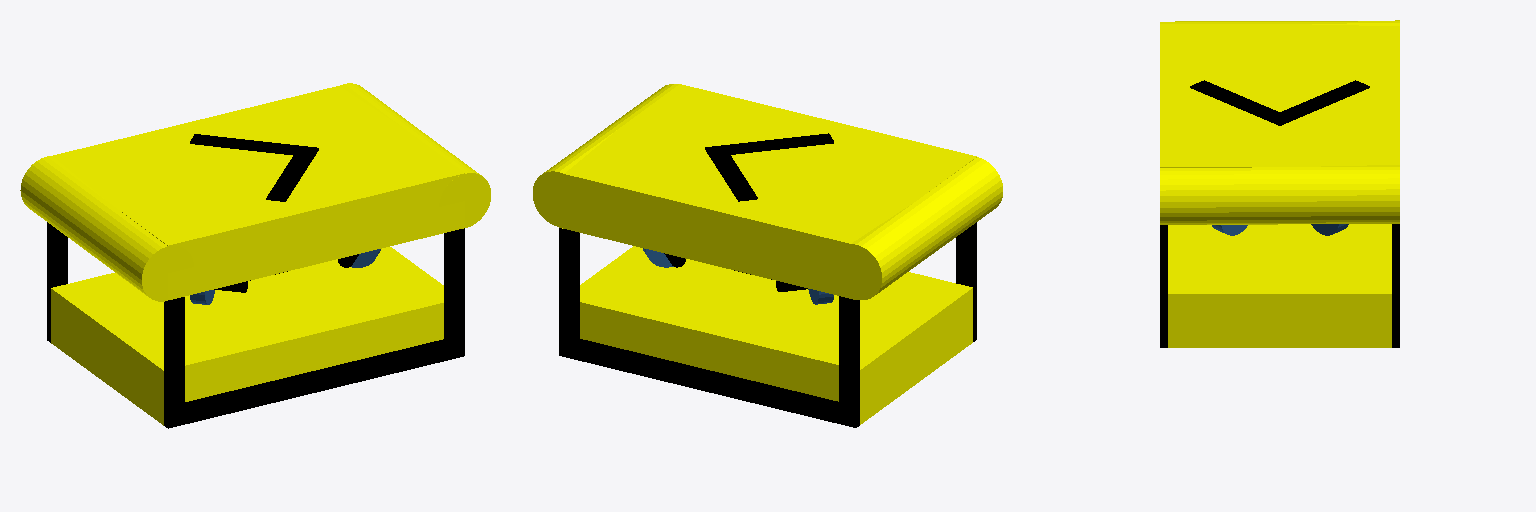
--- What the picture shows (computed from the rendered views, not written in the file) ---
Views: 3 orthographic renders of the robot side by side, from view 1: azimuth 30°, elevation 25°; view 2: azimuth 150°, elevation 25°; view 3: azimuth 270°, elevation 25°.
Robot: bravo_toy_saab — 34 links, 33 joints (4 revolute, 29 fixed); root link new_base; default pose: every joint at zero.
Visible links, largest first — view 1: vehicle_base_link, bottom_body_link, rear_bumper, R_bar, front_bumper, B_R_bar, F_R_bar, B_L_bar, l_arrow, r_arrow; view 2: vehicle_base_link, bottom_body_link, rear_bumper, L_bar, front_bumper, F_L_bar, B_L_bar, B_R_bar, l_arrow, r_arrow; view 3: vehicle_base_link, bottom_body_link, front_bumper, l_arrow, r_arrow, F_L_bar, F_R_bar, rear_bumper.
Boxes of the visible links, bbox=[...] form: vehicle_base_link: bbox=[53, 86, 464, 299]; bottom_body_link: bbox=[51, 247, 443, 425]; rear_bumper: bbox=[20, 156, 193, 301]; R_bar: bbox=[164, 338, 464, 428]; front_bumper: bbox=[340, 83, 490, 227]; B_R_bar: bbox=[164, 297, 184, 427]; F_R_bar: bbox=[444, 228, 464, 358]; B_L_bar: bbox=[47, 222, 67, 324]; l_arrow: bbox=[190, 134, 318, 155]; r_arrow: bbox=[266, 146, 318, 201]; vehicle_base_link: bbox=[559, 84, 976, 299]; bottom_body_link: bbox=[580, 246, 972, 424]; rear_bumper: bbox=[830, 157, 1002, 299]; L_bar: bbox=[562, 339, 859, 427]; front_bumper: bbox=[533, 84, 678, 227]; F_L_bar: bbox=[559, 228, 579, 359]; B_L_bar: bbox=[839, 296, 859, 427]; B_R_bar: bbox=[956, 222, 976, 323]; l_arrow: bbox=[705, 145, 757, 201]; r_arrow: bbox=[712, 133, 833, 154]; vehicle_base_link: bbox=[1160, 24, 1399, 167]; bottom_body_link: bbox=[1168, 224, 1391, 347]; front_bumper: bbox=[1160, 165, 1399, 224]; l_arrow: bbox=[1267, 80, 1369, 125]; r_arrow: bbox=[1190, 80, 1292, 125]; F_L_bar: bbox=[1392, 224, 1399, 347]; F_R_bar: bbox=[1160, 225, 1167, 347]; rear_bumper: bbox=[1160, 20, 1399, 25].
Size in the robot's own frame: 1.08 by 0.6007 by 0.8254 metres.
Meshes: 15 distinct files referenced, 0 mesh visuals loaded (none loaded); not drawn: 15 (reference not matched to a file when rendering).

The robot description file, URDF, robot "bravo_toy_saab":
<?xml version="1.0" encoding="utf-8"?>
<!-- =================================================================================== -->
<!-- |    This document was autogenerated by xacro from test_reach5mini.urdf.xacro     | -->
<!-- |    EDITING THIS FILE BY HAND IS NOT RECOMMENDED                                 | -->
<!-- |    Unless you're Marcus Rosette or Hannah Kolano or Scott Chow  -->
<!-- =================================================================================== -->
<!-- when doing STL -> OBJ conversion, use this to keep origins: https://blender.stackexchange.com/questions/26451/how-to-move-a-complex-object-to-the-origin-without-destroying-it -->
<robot name="bravo_toy_saab">
  
  <link name="new_base"/>

  <joint name="planar_world" type="revolute">
    <parent link="new_base"/>
    <child link="vehicle_base_link"/>
    <limit effort="400.0" lower="0.0" upper="1.0" velocity="3.0"/>
    <axis xyz=" 0. 1. 0."/>
    <origin rpy="0 0 0" xyz="0 0 0.125"/>
  </joint>

  <!-- ======================================= -->
  <!-- - - - - - - - MATERIALS - - - - - - - - -->
  <!-- ======================================= -->
    <material name="bravo_black">
      <color rgba="0.3 0.3 0.3 1. "/>
    </material>
    <material name="bravo_finger_jaws_black">
      <color rgba="0.3 0.3 0.3 1. "/>
    </material>
    <material name="green_v">
      <color rgba="0.5 0.9 0.3 1"/>
    </material>
    <material name="black">
      <color rgba="0 0 0 1"/>
    </material>
    <material name="black_v">
      <color rgba="0 0 0 1"/>
    </material>
    <material name="blue_v">
      <color rgba="0.2 0.4 0.6 1"/>
    </material>
    <material name="orange_v">
      <color rgba="1 .4 0 1"/>
    </material>
    <material name="grey_v">
      <color rgba=".3 .3 .3 1"/>
    </material>
    <material name="red_v">
      <color rgba="1 0 0 1"/>
    </material>
    <material name="yellow_v">
      <color rgba="1 1 0 1"/>
    </material>


  <!-- ======================================= -->
  <!--             VEHICLE LINKS               -->
  <!-- ======================================= -->
  <link name="vehicle_base_link">
    <visual>
      <geometry>
        <box size="0.85 0.6 0.15"/>
      </geometry>
      <material name="yellow_v"/>
    </visual>
    <inertial>
      <mass value="40"/> 
      <origin xyz="0.0 0.0 -0.06"/>
      <inertia ixx="6.31" ixy="0.0" ixz="0.22" 
      iyy="10.15" iyz="0.0" 
      izz="3.93"/>
    </inertial>
  </link>

  <link name="bottom_body_link">
    <visual>
      <geometry>
        <box size="0.85 0.56 0.15"/>
      </geometry>
      <material name="yellow_v"/>
    </visual>
    <inertial>
      <mass value="20"/> 
      <origin xyz="0.0 0.0 -0.06"/>
      <inertia ixx="6.31" ixy="0.0" ixz="0.22" 
      iyy="10.15" iyz="0.0" 
      izz="3.93"/>
    </inertial>
  </link>
  <joint name="bottom_body_joint" type="fixed">
    <parent link="vehicle_base_link"/>
    <child link="bottom_body_link"/>
    <origin rpy="0 0 0" xyz="0 0 -.35"/>
  </joint>


<!-- IF YOU EVER ADD MORE LINKS, MAKE SURE TO CHANGE THE BUOYANCY FRAME VECTOR FOR THE ARM BASE FRAME!!! -->

<!-- ======= Bottom Frame ======= -->
  <link name="F_R_bar">
    <visual>
      <geometry>
        <box size = "0.35 0.02 0.05"/>
      </geometry>
      <material name="black_v"/>
    </visual>
  </link>
    <joint name="FRBarJoint" type="fixed">
      <parent link="vehicle_base_link"/>
      <child link="F_R_bar"/>
      <origin rpy="0 1.57075 0" xyz="0.4 -.29 -.25"/>
    </joint>
  <link name="F_L_bar">
    <visual>
      <geometry>
        <box size = "0.35 0.02 0.05"/>
      </geometry>
      <material name="black_v"/>
    </visual>
  </link>
    <joint name="FLBarJoint" type="fixed">
      <parent link="vehicle_base_link"/>
      <child link="F_L_bar"/>
      <origin rpy="0 1.57075 0" xyz="0.4 .29 -.25"/>
    </joint>
  <link name="B_L_bar">
      <visual>
        <geometry>
          <box size = "0.35 0.02 0.05"/>
        </geometry>
        <material name="black_v"/>
      </visual>
  </link>
    <joint name="BLBarJoint" type="fixed">
      <parent link="vehicle_base_link"/>
      <child link="B_L_bar"/>
      <origin rpy="0 1.57075 0" xyz="-0.4 .29 -.25"/>
    </joint>
  <link name="B_R_bar">
    <visual>
      <geometry>
        <box size = "0.35 0.02 0.05"/>
      </geometry>
      <material name="black_v"/>
    </visual>
  </link>
    <joint name="BRBarJoint" type="fixed">
      <parent link="vehicle_base_link"/>
      <child link="B_R_bar"/>
      <origin rpy="0 1.57075 0" xyz="-0.4 -.29 -.25"/>
    </joint>
  <link name="R_bar">
    <visual>
      <geometry>
        <box size = "0.85 0.02 0.05"/>
      </geometry>
      <material name="black_v"/>
    </visual>
  </link>
    <joint name="RBarJoint" type="fixed">
      <parent link="vehicle_base_link"/>
      <child link="R_bar"/>
      <origin rpy="0 0 0" xyz="0 -.29 -.4"/>
    </joint>
  <link name="L_bar">
    <visual>
      <geometry>
        <box size = "0.85 0.02 0.05"/>
      </geometry>
      <material name="black_v"/>
    </visual>
  </link>
    <joint name="LBarJoint" type="fixed">
      <parent link="vehicle_base_link"/>
      <child link="L_bar"/>
      <origin rpy="0 0 0" xyz="0 .29 -.4"/>
    </joint>

<!-- ======= Front/Back Bumpers ======= -->
  <link name="front_bumper">
    <visual>
      <geometry>
        <cylinder length="0.6" radius="0.075"/>
      </geometry>
      <material name="yellow_v"/>
     </visual>
  </link>
    <joint name="fbump_link" type="fixed">
      <parent link="vehicle_base_link"/>
      <child link="front_bumper"/>
      <origin rpy="1.57579632679 0 0" xyz="0.425 0 0"/>
    </joint>
  <link name="rear_bumper">
      <visual>
        <geometry>
          <cylinder length="0.6" radius="0.075"/>
        </geometry>
        <material name="yellow_v"/>
      </visual>
  </link>
    <joint name="rbump_link" type="fixed">
      <parent link="vehicle_base_link"/>
      <child link="rear_bumper"/>
      <origin rpy="1.57579632679 0 0" xyz="-0.425 0 0"/>
    </joint>

<!-- ======= Front Arrow ======= -->
  <link name="l_arrow">
    <visual>
      <geometry>
        <box size="0.05 0.318 0.01"/>
      </geometry>
      <material name="black_v"/>
    </visual>
  </link>
    <joint name="l_arrow_link" type="fixed">
      <parent link="vehicle_base_link"/>
      <child link="l_arrow"/>
      <origin rpy="0 0 0.787898163397" xyz="0.05 0.095 0.075"/>
    </joint>
  <link name="r_arrow">
    <visual>
      <geometry>
        <box size="0.05 0.318 0.01"/>
      </geometry>
      <material name="black_v"/>
    </visual>
  </link>
    <joint name="r_arrow_link" type="fixed">
      <parent link="vehicle_base_link"/>
      <child link="r_arrow"/>
      <origin rpy="0 0 -0.787898163397" xyz="0.05 -0.095 0.075"/>
    </joint>

<!-- ======= Thrusters ======= -->
  <link name="sf_fan">
    <visual>
      <geometry>
        <cylinder length="0.04" radius="0.06"/>
      </geometry>
      <material name="blue_v"/>
    </visual>
  </link>
    <joint name="base_to_sf_fan" type="fixed">
      <parent link="vehicle_base_link"/>
      <child link="sf_fan"/>
      <origin rpy="0 1.57579632679 0.785" xyz="0.22 -0.12 -0.14"/>
    </joint>
  <link name="sf_thruster">
    <visual>
      <geometry>
        <cylinder length="0.1" radius="0.02"/>
      </geometry>
      <material name="black_v"/>
    </visual>
  </link>
    <joint name="sf_fan_thruster_joint" type="fixed">
      <parent link="sf_fan"/>
      <child link="sf_thruster"/>
      <origin xyz="0 0 -0.06"/>
    </joint>
  <link name="pf_fan">
    <visual>
      <geometry>
        <cylinder length="0.04" radius="0.06"/>
      </geometry>
      <material name="blue_v"/>
    </visual>
  </link>
    <joint name="base_to_pf_fan" type="fixed">
      <parent link="vehicle_base_link"/>
      <child link="pf_fan"/>
      <origin rpy="0 1.57579632679 -0.785" xyz="0.22 0.12 -0.14"/>
    </joint>
  <link name="pf_thruster">
    <visual>
      <geometry>
        <cylinder length="0.1" radius="0.02"/>
      </geometry>
      <material name="black_v"/>
    </visual>
  </link>
    <joint name="pf_fan_thruster_joint" type="fixed">
      <parent link="pf_fan"/>
      <child link="pf_thruster"/>
      <origin xyz="0 0 -0.06"/>
    </joint>
  <link name="sa_fan">
    <visual>
      <geometry>
        <cylinder length="0.04" radius="0.06"/>
      </geometry>
      <material name="blue_v"/>
    </visual>
  </link>
    <joint name="base_to_sa_fan" type="fixed">
      <parent link="vehicle_base_link"/>
      <child link="sa_fan"/>
      <origin rpy="0 -1.57579632679 -0.785" xyz="-0.22 -0.12 -0.14"/>
    </joint>
  <link name="sa_thruster">
    <visual>
      <geometry>
        <cylinder length="0.1" radius="0.02"/>
      </geometry>
      <material name="black_v"/>
    </visual>
  </link>
    <joint name="sa_fan_thruster_joint" type="fixed">
      <parent link="sa_fan"/>
      <child link="sa_thruster"/>
      <origin xyz="0 0 -0.06"/>
    </joint>
  <link name="pa_fan">
    <visual>
      <geometry>
        <cylinder length="0.04" radius="0.06"/>
      </geometry>
      <material name="blue_v"/>
    </visual>
  </link>
    <joint name="base_to_pa_fan" type="fixed">
      <parent link="vehicle_base_link"/>
      <child link="pa_fan"/>
      <origin rpy="0 -1.57579632679 0.785" xyz="-0.22 0.12 -0.14"/>
    </joint>
  <link name="pa_thruster">
    <visual>
      <geometry>
        <cylinder length="0.1" radius="0.02"/>
      </geometry>
      <material name="black_v"/>
    </visual>
  </link>
    <joint name="pa_fan_thruster_joint" type="fixed">
      <parent link="pa_fan"/>
      <child link="pa_thruster"/>
      <origin xyz="0 0 -0.06"/>
    </joint>

  <link name="seabotix_bottle">
    <visual>
      <geometry>
        <cylinder length="0.26" radius="0.05"/>
      </geometry>
      <material name="black_v"/>
    </visual>
  </link>
    <joint name="sbottle_link" type="fixed">
      <parent link="vehicle_base_link"/>
      <child link="seabotix_bottle"/>
      <origin rpy="0 1.57579632679 0" xyz="-0.05 0 -0.18"/>
    </joint>


<!-- ======================================= -->
<!--               BRAVO LINKS               -->
<!-- ======================================= -->
  <joint name="bravo_joint" type="fixed">
    <origin rpy="0 0 0" xyz=".425 0 -.39"/>
    <parent link="vehicle_base_link"/>
    <child link="bravo_base_link"/>
    <dynamics damping="10.0" friction="0.0"/>
  </joint>
  <link name="ee_link"/>
  <joint name="ee_link_joint" type="fixed">
    <parent link="bravo_1023_1_joint_link"/>
    <child link="ee_link"/>
    <origin rpy="0 0 -1.5707" xyz="0 0 0.120"/>
  </joint>
  <link name="bravo_base_link">
    <inertial>
      <mass value="1.25"/>
      <origin xyz="-0.075 -0.006 -0.003"/>
      <inertia ixx="0.002108" ixy="0.00018199999999999998" ixz="-1.4999999999999999e-05" iyy="0.0025729999999999998" iyz="-2.1e-05" izz="0.003483"/>
    </inertial>
    <visual>
      <geometry>
        <mesh filename="package://bpl_bravo_description_real/meshes/RS2-1019_base.stl"/>
      </geometry>
      <material name="bravo_black"/>
      <origin rpy="0.0 -0.0 0.0" xyz="0.0 0.0 0.0"/>
    </visual>
    <collision>
      <geometry>
        <box size="0.0725 0.1112 0.083 "/>
      </geometry>
      <origin rpy="0.0 0.0 0.0" xyz="0.03625 0.0 0.0415"/>
    </collision>
    <collision>
      <geometry>
        <box size="0.05 0.08 0.06"/>
      </geometry>
      <origin rpy="0.0 0.0 0.0" xyz="0.025 -0.04556 0.03"/>
    </collision>
    <collision>
      <geometry>
        <cylinder length="0.083" radius="0.046"/>
      </geometry>
      <origin rpy="0.0 0.0 0.0" xyz="0.0665 0.0 0.0415"/>
    </collision>
  </link>
  <link name="bravo_1019_end_link">
    <inertial>
      <mass value="1.55"/>
      <inertia ixx="0.011441999999999999" ixy="-0.000484" ixz="0.003405" iyy="0.01298" iyz="-0.0012649999999999998" izz="0.003202"/>
      <origin xyz="0.005 -0.001 0.016"/>
    </inertial>
    <visual>
      <geometry>
        <mesh filename="package://bpl_bravo_description_real/meshes/RS2-1019_end.stl"/>
      </geometry>
      <material name="bravo_black"/>
      <origin rpy="0.0 -0.0 0.0" xyz="0.0 0.0 0.0"/>
    </visual>
    <visual>
      <geometry>
        <mesh filename="package://bpl_bravo_description_real/meshes/RS2-1013_base.stl"/>
      </geometry>
      <material name="bravo_black"/>
      <origin rpy="0.0 -0.0 0.0" xyz="0.0 0.0 0.0"/>
    </visual>
    <collision>
      <geometry>
        <mesh filename="package://bpl_bravo_description_real/meshes/RS2-1019_end.stl"/>
      </geometry>
      <origin rpy="0.0 -0.0 0.0" xyz="0.0 0.0 0.0"/>
    </collision>
    <collision>
      <geometry>
        <cylinder length="0.03" radius="0.046"/>
      </geometry>
      <origin rpy="0.0 -0.0 0.0" xyz="0.0 0.0 0.015"/>
    </collision>
    <collision>
      <geometry>
        <cylinder length="0.1" radius="0.046"/>
      </geometry>
      <origin rpy="1.5707 -0.0 0.0" xyz="0.048 0.0 0.0642"/>
    </collision>
  </link>
  <link name="bravo_1013_joint_link">
    <inertial>
      <mass value="1.14"/>
      <origin xyz="0.022 -0.029 0.001"/>
      <inertia ixx="0.0032129999999999997" ixy="-0.001548" ixz="-3.1e-05" iyy="0.002327" iyz="6e-06" izz="0.00434"/>
    </inertial>
    <visual>
      <geometry>
        <mesh filename="package://bpl_bravo_description_real/meshes/RS2-1013_end.stl"/>
      </geometry>
      <material name="bravo_black"/>
      <origin rpy="0.0 -0.0 0.0" xyz="0.0 0.0 0.0"/>
    </visual>
    <visual>
      <geometry>
        <mesh filename="package://bpl_bravo_description_real/meshes/RS2-1026_0_base.stl"/>
      </geometry>
      <material name="bravo_black"/>
      <origin rpy="3.14159 -0.0 3.14159" xyz="0.04600000000128156 4.829533423884964e-07 -0.2325499999993592"/>
    </visual>
    <visual>
      <geometry>
        <mesh filename="package://bpl_bravo_description_real/meshes/RS2-1030.stl"/>
      </geometry>
      <material name="bravo_black"/>
      <origin rpy="3.14159 -0.0 3.14159" xyz="0.046 0.0 -0.05055"/>
    </visual>
    <collision>
      <geometry>
        <cylinder length="0.03" radius="0.046"/>
      </geometry>
      <origin rpy="0.0 0.0 0.0" xyz="0.046 0.0 -0.03555"/>
    </collision>
    <collision>
      <geometry>
        <cylinder length="0.03" radius="0.0408"/>
      </geometry>
      <origin rpy="3.14159 -0.0 3.14159" xyz="0.04600000000138718 5.227571892886473e-07 -0.24754999999930644"/>
    </collision>
    <collision>
      <geometry>
        <cylinder length="0.0816" radius="0.0408"/>
      </geometry>
      <origin rpy="-1.5708953071795866 -0.0 3.14159" xyz="0.005200000001832204 7.445972960125356e-07 -0.29034999999915573"/>
    </collision>
    <collision>
      <geometry>
        <cylinder length="0.03033333" radius="0.046"/>
      </geometry>
      <origin rpy="3.14159 -0.0 3.14159" xyz="0.046000000000106796 4.0246094175109416e-08 -0.0657166599999466"/>
    </collision>
    <collision>
      <geometry>
        <cylinder length="0.03033333" radius="0.045"/>
      </geometry>
      <origin rpy="3.14159 -0.0 3.14159" xyz="0.04600000000032039 1.207383355971241e-07 -0.0960499999998398"/>
    </collision>
    <collision>
      <geometry>
        <cylinder length="0.03033333" radius="0.044"/>
      </geometry>
      <origin rpy="3.14159 -0.0 3.14159" xyz="0.04600000000053398 2.0123055844401027e-07 -0.126383332999733"/>
    </collision>
    <collision>
      <geometry>
        <cylinder length="0.03033333" radius="0.043"/>
      </geometry>
      <origin rpy="3.14159 -0.0 3.14159" xyz="0.046000000000747575 2.817227828830503e-07 -0.15671666659962621"/>
    </collision>
    <collision>
      <geometry>
        <cylinder length="0.03033333" radius="0.042"/>
      </geometry>
      <origin rpy="3.14159 -0.0 3.14159" xyz="0.04600000000096117 3.6221500679137236e-07 -0.18704999999951943"/>
    </collision>
    <collision>
      <geometry>
        <cylinder length="0.03033333" radius="0.041"/>
      </geometry>
      <origin rpy="3.14159 -0.0 3.14159" xyz="0.04600000000117476 4.427071420697953e-07 -0.21738329999941264"/>
    </collision>
  </link>
  <link name="bravo_1026_0_joint_link">
    <inertial>
      <origin rpy="0.0 -0.0 0.0" xyz="0.017 -0.026 -0.002"/>
      <mass value="1.14"/>
      <inertia ixx="0.021231999999999997" ixy="0.00033" ixz="-0.003738" iyy="0.022251999999999997" iyz="-0.0012779999999999998" izz="0.002054"/>
    </inertial>
    <visual>
      <geometry>
        <mesh filename="package://bpl_bravo_description_real/meshes/RS2-1026_0_end.stl"/>
      </geometry>
      <material name="bravo_black"/>
      <origin rpy="0.0 -0.0 0.0" xyz="0.0 0.0 0.0"/>
    </visual>
    <collision>
      <geometry>
        <cylinder length="0.08" radius="0.0408"/>
      </geometry>
      <origin rpy="0.0 0.0 0.0" xyz="0.0408 0.0 -0.05385"/>
    </collision>
  </link>
  <link name="bravo_1026_1_joint_link">
    <inertial>
      <mass value="1.03"/>
      <origin xyz="0.020 -0.024 0.001"/>
      <inertia ixx="0.00243" ixy="-0.001144" ixz="-3.9999999999999996e-05" iyy="0.002026" iyz="1.1e-05" izz="0.00333"/>
    </inertial>
    <visual>
      <geometry>
        <mesh filename="package://bpl_bravo_description_real/meshes/RS2-1026_1_end.stl"/>
      </geometry>
      <material name="bravo_black"/>
      <origin rpy="0.0 0.0 3.14159" xyz="0.0 0.0 0.0"/>
    </visual>
    <visual>
      <geometry>
        <mesh filename="package://bpl_bravo_description_real/meshes/RS2-1023_0_base.stl"/>
      </geometry>
      <material name="bravo_black"/>
      <origin rpy="0.0 -0.0 3.14159" xyz="0.0 0.0 0.0056"/>
    </visual>
    <collision>
      <geometry>
        <cylinder length="0.0056" radius="0.0408"/>
      </geometry>
      <origin rpy="0.0 0.0 3.14159" xyz="0.0 0.0 0.0028"/>
    </collision>
    <collision>
      <geometry>
        <cylinder length="0.03" radius="0.0408"/>
      </geometry>
      <origin rpy="0.0 -0.0 3.14159" xyz="0.0 0.0 0.0206"/>
    </collision>
    <collision>
      <geometry>
        <cylinder length="0.0816" radius="0.0408"/>
      </geometry>
      <origin rpy="1.5707 -0.0 3.14159" xyz="-0.040799999999856354 1.082664635687914e-07 0.0634"/>
    </collision>
  </link>
  <link name="bravo_1023_0_joint_link">
    <inertial>
      <origin rpy="0.0 -0.0 0.0" xyz="0.0 0.003 -0.098"/>
      <mass value="0.333"/>
      <inertia ixx="0.003709" ixy="-2e-06" ixz="-4e-06" iyy="0.003734" iyz="0.0" izz="7.9e-05"/>
    </inertial>
    <visual>
      <geometry>
        <mesh filename="package://bpl_bravo_description_real/meshes/RS2-1023_0_end.stl"/>
      </geometry>
      <material name="bravo_black"/>
      <origin rpy="0.0 -0.0 0.0" xyz="0.0 0.0 0.0"/>
    </visual>
    <collision>
      <geometry>
        <cylinder length="0.08" radius="0.0408"/>
      </geometry>
      <origin rpy="0.0 0.0 0.0" xyz="0.0408 0.0 -0.05385"/>
    </collision>
  </link>
  <link name="bravo_1023_1_joint_link">
    <inertial>
      <origin xyz="0.0 0.003 -0.098"/>
      <mass value="1.04"/>
      <inertia ixx="0.022359" ixy="1e-06" ixz="-1.8999999999999998e-05" iyy="0.022362999999999997" iyz="1.4999999999999999e-05" izz="0.000936"/>
    </inertial>
    <visual>
      <geometry>
        <mesh filename="package://bpl_bravo_description_real/meshes/RS2-1023_1_end.stl"/>
      </geometry>
      <material name="bravo_black"/>
      <origin rpy="0.0 -0.0 0.0" xyz="0.0 0.0 0.0"/>
    </visual>
    <visual>
      <geometry>
        <mesh filename="package://bpl_bravo_description_real/meshes/RS2-1028.stl"/>
      </geometry>
      <material name="bravo_black"/>
      <origin rpy="0.0 -0.0 0.0" xyz="0.0 0.0 0.0056"/>
    </visual>
    <visual>
      <geometry>
        <mesh filename="package://bpl_bravo_description_real/meshes/end_effectors/RS2-257.stl"/>
      </geometry>
      <material name="bravo_finger_jaws_black"/>
      <origin rpy="-1.5707 -1.5706999999997038 0.0" xyz="0.0 0.0 0.1256"/>
    </visual>
    <collision>
      <geometry>
        <cylinder length="0.0056" radius="0.0408"/>
      </geometry>
      <origin rpy="0.0 0.0 0.0" xyz="0.0 0.0 0.0028"/>
    </collision>
    <collision>
      <geometry>
        <cylinder length="0.12" radius="0.0408"/>
      </geometry>
      <origin rpy="0.0 -0.0 0.0" xyz="0.0 0.0 0.06559999999999999"/>
    </collision>
    <collision>
      <geometry>
        <cylinder length="0.02" radius="0.05"/>
      </geometry>
      <origin rpy="-9.632679489654805e-05 -9.631751559834678e-05 -1.5706999907215955" xyz="9.632679474766714e-07 0.0 0.13559999995360572"/>
    </collision>
  </link>
  <link name="bravo_push_rod">
    <inertial>
      <origin rpy="0.0 -0.0 0.0" xyz="0.0 0.0 0.0"/>
      <mass value="0.1"/>
      <inertia ixx="0.0001" ixy="0.0" ixz="0.0" iyy="0.0001" iyz="0.0" izz="0.0001"/>
    </inertial>
  </link>
  <link name="bravo_finger_jaws_rs2_300_link">
    <inertial>
      <origin rpy="0.0 -0.0 0.0" xyz="0.05 0.0 0.0"/>
      <mass value="0.24"/>
      <inertia ixx="0.000244" ixy="-1.2e-05" ixz="0.0" iyy="0.00113" iyz="1e-06" izz="0.001178"/>
    </inertial>
    <visual>
      <geometry>
        <mesh filename="package://bpl_bravo_description_real/meshes/end_effectors/RS2-300.stl"/>
      </geometry>
      <material name="bravo_finger_jaws_black"/>
      <origin rpy="0.0 -0.0 0.0" xyz="0.0 0.0 0.0"/>
    </visual>
    <collision>
      <geometry>
        <mesh filename="package://bpl_bravo_description_real/meshes/end_effectors/RS2-300.stl"/>
      </geometry>
      <origin rpy="0.0 -0.0 0.0" xyz="0.0 0.0 0.0"/>
    </collision>
  </link>
  <link name="bravo_finger_jaws_rs2_301_link">
    <inertial>
      <origin rpy="0.0 -0.0 0.0" xyz="0.05 0.0 0.0"/>
      <mass value="0.24"/>
      <inertia ixx="0.000244" ixy="-1.2e-05" ixz="0.0" iyy="0.00113" iyz="1e-06" izz="0.001178"/>
    </inertial>
    <visual>
      <geometry>
        <mesh filename="package://bpl_bravo_description_real/meshes/end_effectors/RS2-301.stl"/>
      </geometry>
      <material name="bravo_finger_jaws_black"/>
      <origin rpy="0.0 -0.0 0.0" xyz="0.0 0.0 0.0"/>
    </visual>
    <collision>
      <geometry>
        <mesh filename="package://bpl_bravo_description_real/meshes/end_effectors/RS2-301.stl"/>
      </geometry>
      <origin rpy="0.0 -0.0 0.0" xyz="0.0 0.0 0.0"/>
    </collision>
  </link>

  <link name="end_effector_tip">
    <visual>
      <geometry>
        <box size="0.0 0.0 0.00"/>
      </geometry>
      <material name="bravo_finger_jaws_black"/>
      <origin rpy="0.0 -0.0 0.0" xyz="0.0 0.0 0.0"/>
    </visual>
  </link>

  <!-- Changed bravo_axis_g to fixed -->
  <joint name="bravo_axis_g" type="fixed">  
    <dynamics damping="10.0" friction="0.0"/>
    <limit effort="500.0" lower="0.0" upper="6.2" velocity="3.0"/>
    <parent link="bravo_base_link"/>
    <child link="bravo_1019_end_link"/>
    <axis xyz=" 0.  0. -1."/>
    <origin rpy="0.0 0.0 0" xyz="0.0665 0.0 0.08"/>
  </joint>
  <joint name="bravo_axis_a" type="fixed">
    <dynamics damping="10.0" friction="0.0"/>
    <limit effort="1000.0" lower="0.0" upper="0.035" velocity="10.0"/>
    <parent link="bravo_1023_1_joint_link"/>
    <child link="bravo_push_rod"/>
    <axis xyz="0. 0. 1."/>
    <origin rpy="-1.5707 -1.5706999999997038 -1.5707" xyz="-8.669411487068951e-07 0.008999999958245167 0.12560000008350966"/>
  </joint>
  <joint name="bravo_finger_jaws_rs2_300_joint" type="fixed">
    <!-- Changed joint type to "fixed" to eliminate looping through another dimension -->
    <limit effort="400.0" lower="0.0" upper="1.0" velocity="3.0"/>
    <mimic joint="bravo_axis_a" multiplier="18.0" offset="0.0"/>
    <parent link="bravo_1023_1_joint_link"/>
    <child link="bravo_finger_jaws_rs2_300_link"/>
    <axis xyz=" 0.  0. -1."/>
    <origin rpy="-1.5707 -1.8357 0.0" xyz="-0.032999065323888854 -3.178784226673016e-06 0.1353031787392095"/>
      <!-- Subtracted 0.265 to the y origin rotation to eliminate finger collision -->
  </joint>
  <joint name="bravo_finger_jaws_rs2_301_joint" type="fixed">
    <!-- Changed joint type to "fixed" to eliminate looping through another dimension -->
    <limit effort="400.0" lower="0.0" upper="1.0" velocity="3.0"/>
    <mimic joint="bravo_finger_jaws_rs2_300_joint" multiplier="1.0" offset="0.0"/>
    <parent link="bravo_1023_1_joint_link"/>
    <child link="bravo_finger_jaws_rs2_301_link"/>
    <axis xyz="0. 0. 1."/>
    <origin rpy="-1.5707 -1.3057 0.0" xyz="0.03300093406370696 3.178784226673016e-06 0.13529682117078565"/>
    <!-- Added 0.265 to the y origin rotation to eliminate finger collision -->
  </joint>

  <joint name="end_effector_tip_joint" type="fixed">
    <parent link="bravo_1023_0_joint_link"/>
    <child link="end_effector_tip"/>
    <axis xyz="0.0 -1 0.0"/>
    <origin rpy="0.0 3.14159 0.0" xyz="0.042 0.0 -0.367"/>
  </joint>

  <!-- Changed bravo_axis_b to fixed -->
  <joint name="bravo_axis_b" type="fixed">
    <dynamics damping="10.0" friction="0.0"/>
    <limit effort="500.0" lower="0.0" upper="6.2" velocity="3.0"/>
    <parent link="bravo_1023_0_joint_link"/>
    <child link="bravo_1023_1_joint_link"/>
    <axis xyz=" 0.  0. -1."/>
    <origin rpy="3.14159 -0.0 1.5707" xyz="0.0408 -1.326794896676365e-09 -0.09434999999999824"/>
  </joint>
  <joint name="bravo_axis_c" type="revolute">
    <dynamics damping="10.0" friction="0.0"/>
    <limit effort="500.0" lower="0.0" upper="3.2" velocity="3.0"/>
    <parent link="bravo_1026_1_joint_link"/>
    <child link="bravo_1023_0_joint_link"/>
    <axis xyz=" 0. -1.  0."/>
    <origin rpy="0.0 -0.0 3.14159" xyz="-0.041999999999852135 1.1145077132081467e-07 0.0634"/>
  </joint>
  <!-- Changed bravo_axis_d to fixed -->
  <joint name="bravo_axis_d" type="fixed">
    <dynamics damping="10.0" friction="0.0"/>
    <limit effort="500.0" lower="0.0" upper="6.2" velocity="3.0"/>
    <parent link="bravo_1026_0_joint_link"/>
    <child link="bravo_1026_1_joint_link"/>
    <axis xyz=" 0.  0. -1."/>
    <origin rpy="3.14159 -0.0 0.0" xyz="0.0408 -1.326794896676365e-09 -0.09434999999999824"/>
  </joint>
  <joint name="bravo_axis_e" type="revolute">
    <dynamics damping="10.0" friction="0.0"/>
    <limit effort="500.0" lower="0.0" upper="3.14" velocity="3.0"/>
    <parent link="bravo_1013_joint_link"/>
    <child link="bravo_1026_0_joint_link"/>
    <axis xyz=" 0. -1.  0."/>
    <origin rpy="3.14159 -0.0 3.14159" xyz="0.0040000000018364235 7.477816037645589e-07 -0.29034999999915573"/>
  </joint>
  <joint name="bravo_axis_f" type="revolute">
    <dynamics damping="10.0" friction="0.0"/>
    <limit effort="500.0" lower="0.0" upper="3.14" velocity="3.0"/>
    <parent link="bravo_1019_end_link"/>
    <child link="bravo_1013_joint_link"/>
    <axis xyz=" 0. -1.  0."/>
    <origin rpy="0.0 -0.0 0.0" xyz="0.046 0.0 0.0642"/>
  </joint>
  </robot>
